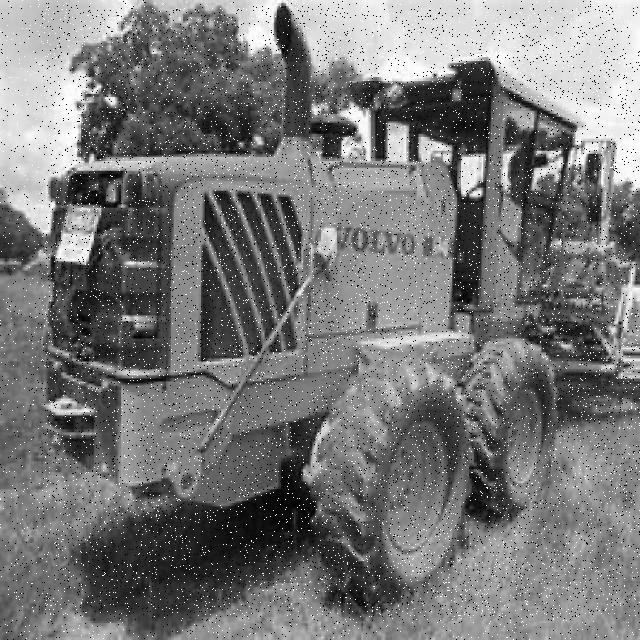Construction Equipment: (42, 6, 640, 617)
